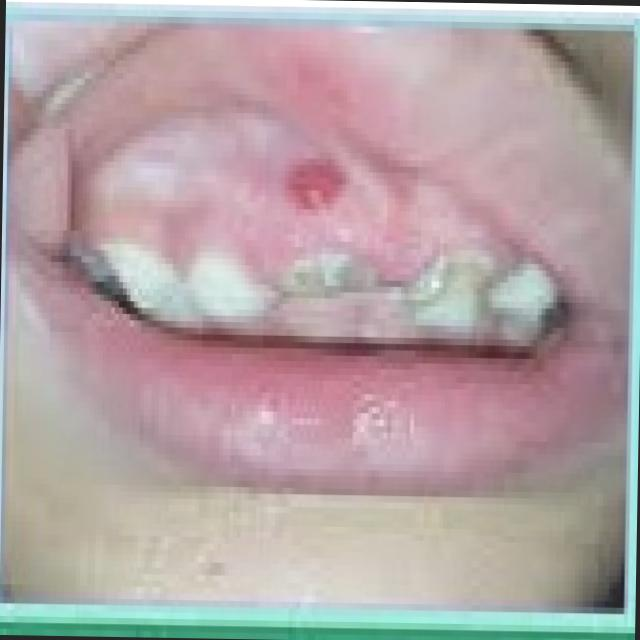abscess: (276, 124, 361, 249)
